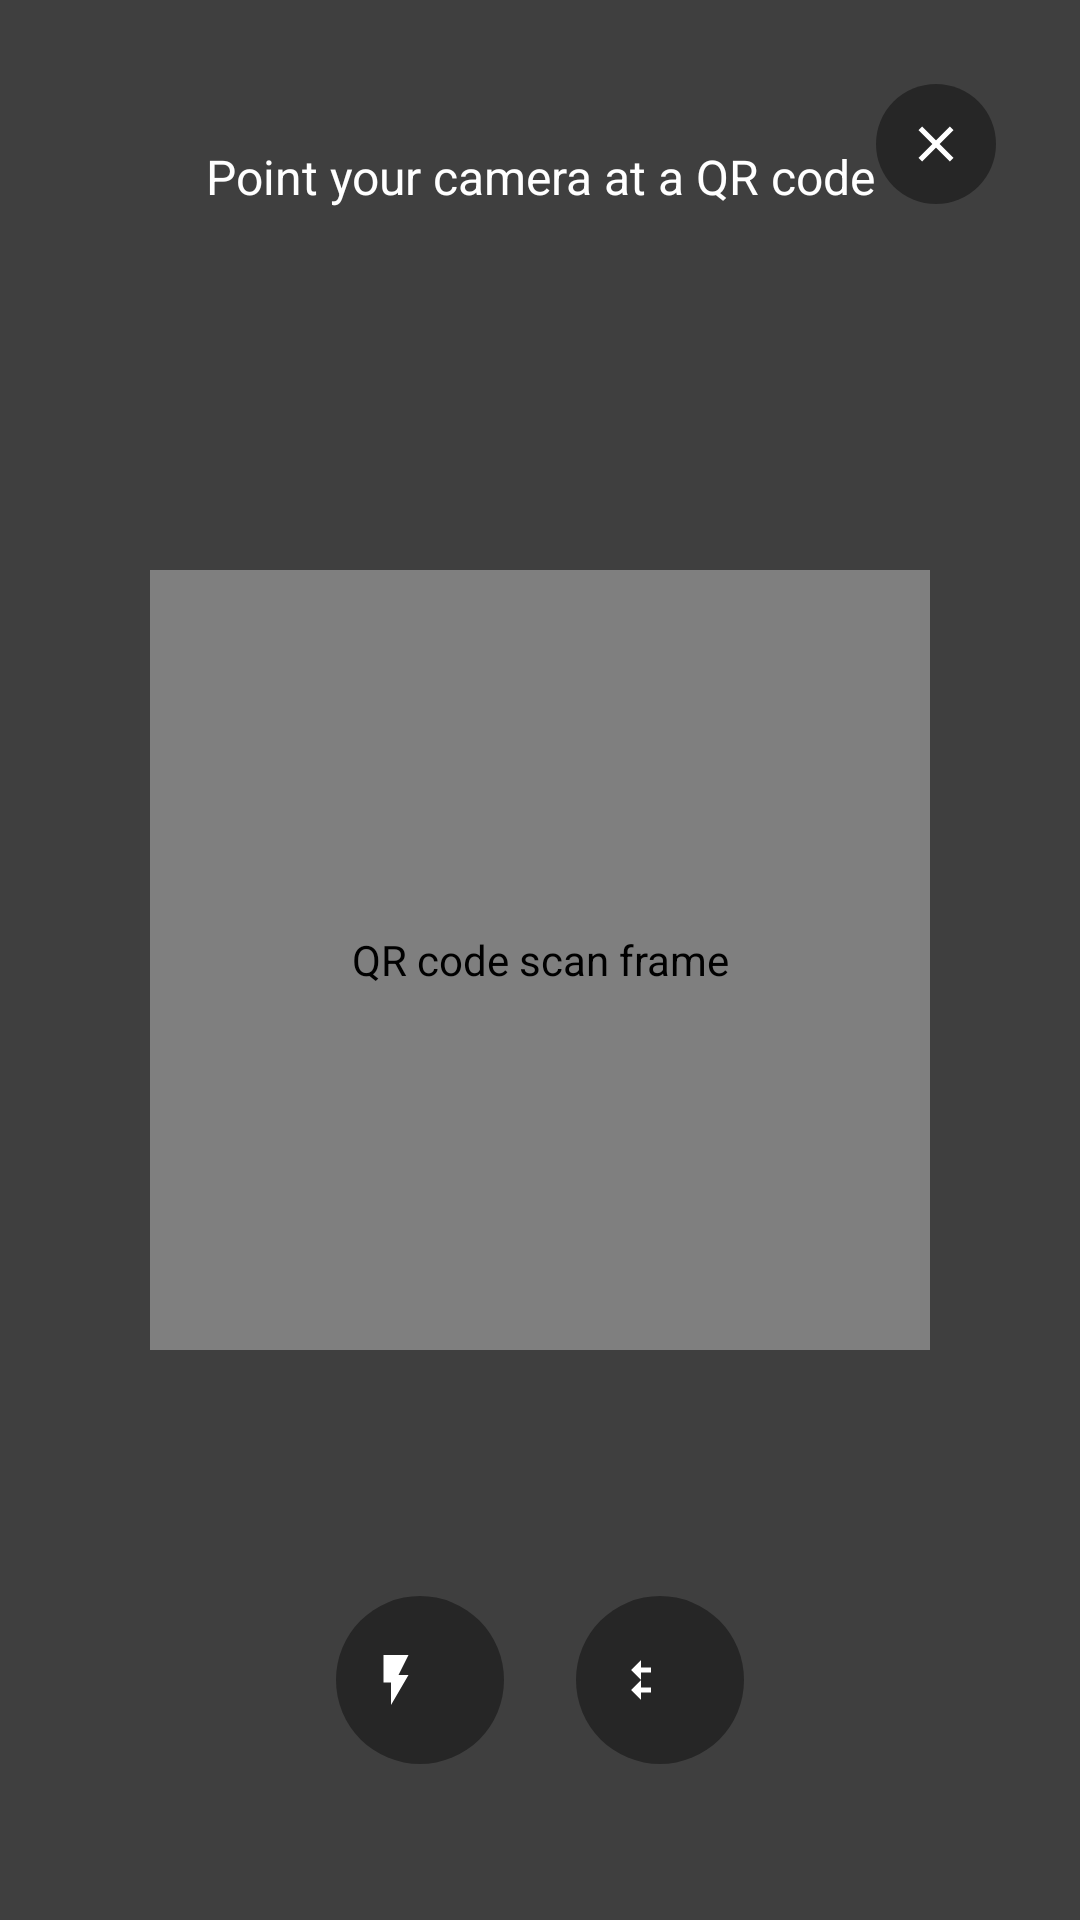

Screen size 1080px x 1920px. Icon name, then its center in pixels as (x=x, y=y):
Close scanner: (x=936, y=144)
Flashlight on: (x=420, y=1680)
